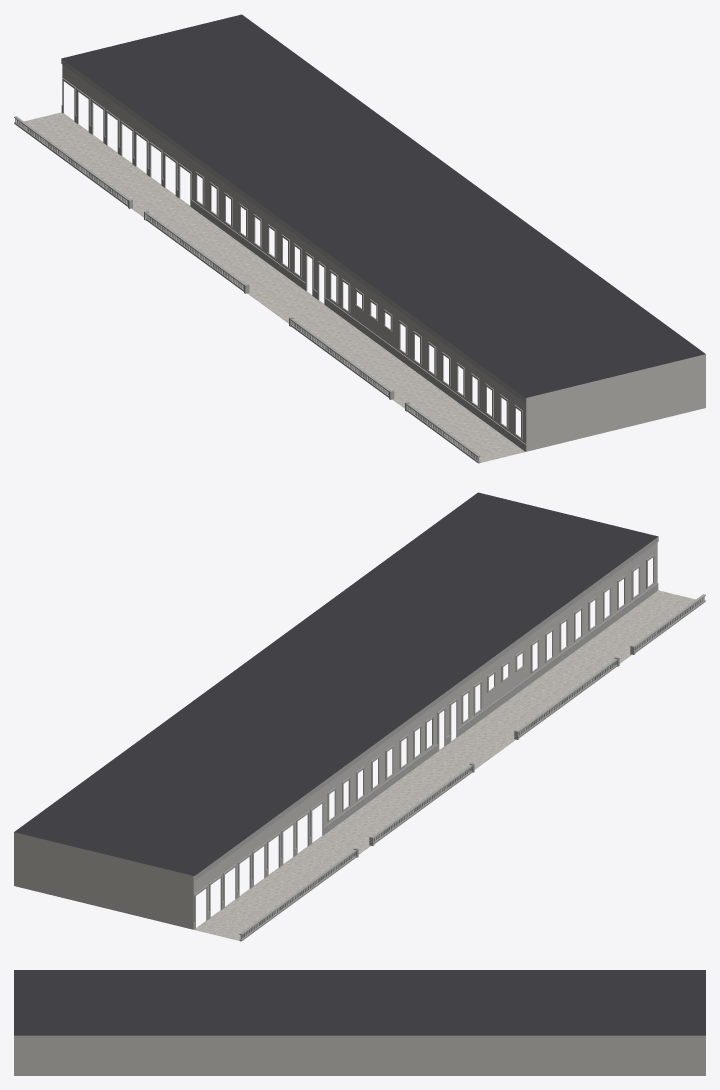
The model's file is terrace.glb.
3 renders of one model, top to bottom at view 1: azimuth 30°, elevation 25°; view 2: azimuth 150°, elevation 25°; view 3: azimuth 270°, elevation 25°, orthographic. The views are drawn at different scales.
Visible parts, largest first — view 1: terrace; view 2: terrace; view 3: terrace.
Part boxes in pixels (left/top/right/bottom): terrace: left=14, top=14, right=705, bottom=463; terrace: left=14, top=492, right=705, bottom=941; terrace: left=14, top=970, right=705, bottom=1075.
Bounding box in the file's own units: 36.4 × 8.2 × 128.
Materials: 4 (2 with a texture image).
